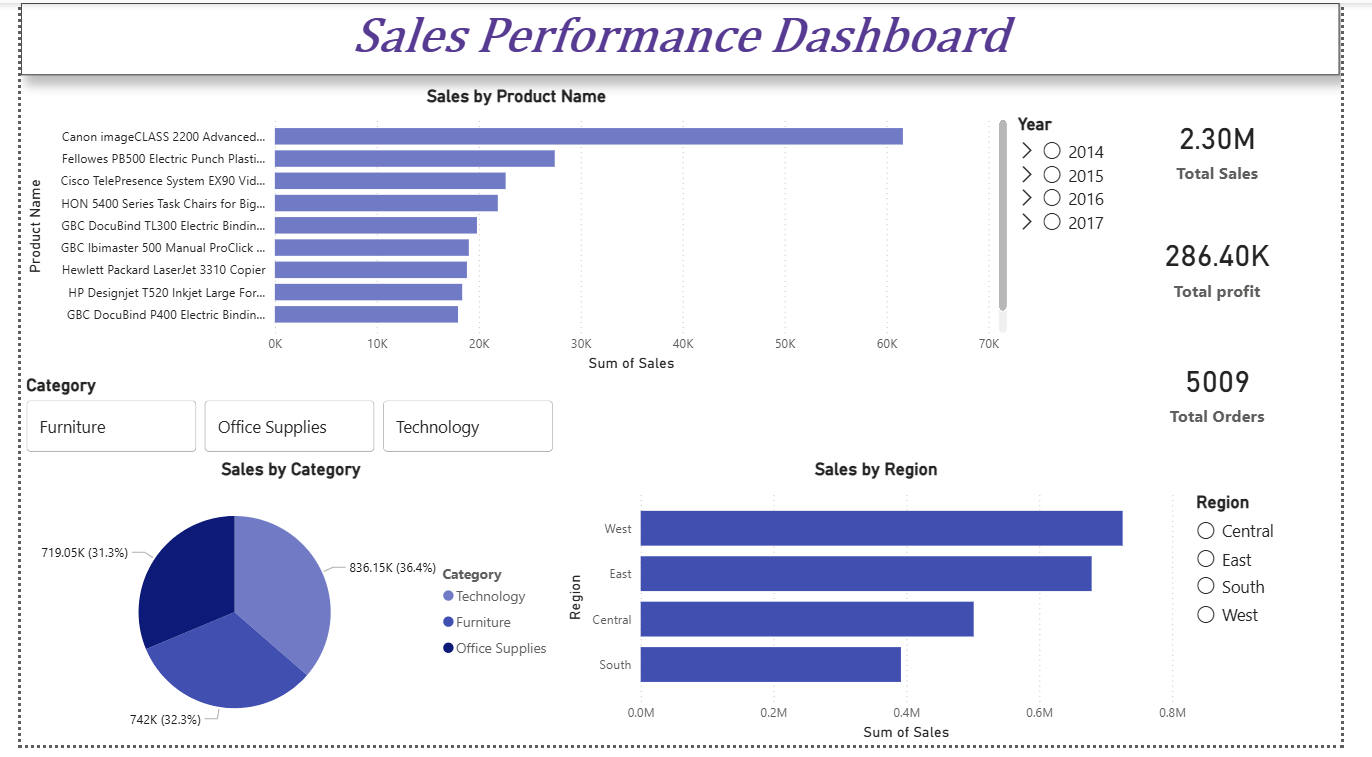

Layout of this report page (visuals, bound fields, positions):
{"tool":"powerbi","page":{"name":"Page 1","canvas":[1280,720],"ordinal":0},"visuals":[{"type":"card","fields":{"Values":["Interactive sales.Total Sales"]},"box":[1040.3,80.3,239.2,119.6],"z":1},{"type":"card","fields":{"Values":["Interactive sales.Total profit"]},"box":[1040.3,199.9,239.2,109],"z":2},{"type":"card","fields":{"Values":["Interactive sales.Total Orders"]},"box":[1040.3,321,239.2,107.5],"z":3},{"type":"pieChart","title":"Sales by Category","fields":{"Y":["Sum(Interactive sales.Sales)"],"Category":["Interactive sales.Category"]},"box":[0,442.1,523.9,277.1],"z":5},{"type":"barChart","title":" Sales by Region","fields":{"Category":["Interactive sales.Region"],"Y":["Sum(Interactive sales.Sales)"]},"box":[523.9,442.1,611.7,277.1],"z":6},{"type":"barChart","title":"Sales by Product Name","fields":{"Category":["Interactive sales.Product Name"],"Y":["Sum(Interactive sales.Sales)"]},"box":[0,80.3,961.5,281.6],"z":7},{"type":"listSlicer","fields":{"Values":["Interactive sales.Region"]},"box":[1135.7,473.9,143.8,245.3],"z":8},{"type":"advancedSlicerVisual","fields":{"Values":["Interactive sales.Category"]},"box":[0,360.4,523.9,80.3],"z":9},{"type":"listSlicer","fields":{"Values":["Interactive sales.Order Date.Variation.Date Hierarchy.Year","Interactive sales.Order Date.Variation.Date Hierarchy.Quarter","Interactive sales.Order Date.Variation.Date Hierarchy.Month","Interactive sales.Order Date.Variation.Date Hierarchy.Day"]},"box":[961.5,107.5,122.7,213.5],"z":10},{"type":"textbox","box":[0,0,1279.4,69.9],"z":11}]}

Visuals, with their boxes in screenshot pixels (x1, y1, x2, y2), scaled from the page's 1280x720 canvas onto the 1372x757 screenshot:
card - Interactive sales.Total Sales: rect(1115, 84, 1371, 210)
card - Interactive sales.Total profit: rect(1115, 210, 1371, 325)
card - Interactive sales.Total Orders: rect(1115, 337, 1371, 451)
"Sales by Category" pieChart: rect(0, 465, 562, 756)
" Sales by Region" barChart: rect(562, 465, 1217, 756)
"Sales by Product Name" barChart: rect(0, 84, 1031, 380)
listSlicer - Interactive sales.Region: rect(1217, 498, 1371, 756)
advancedSlicerVisual - Interactive sales.Category: rect(0, 379, 562, 463)
listSlicer - Interactive sales.Order Date.Variation.Date Hierarchy.Year x Interactive sales.Order Date.Variation.Date Hierarchy.Quarter: rect(1031, 113, 1162, 337)
textbox: rect(0, 0, 1371, 73)
